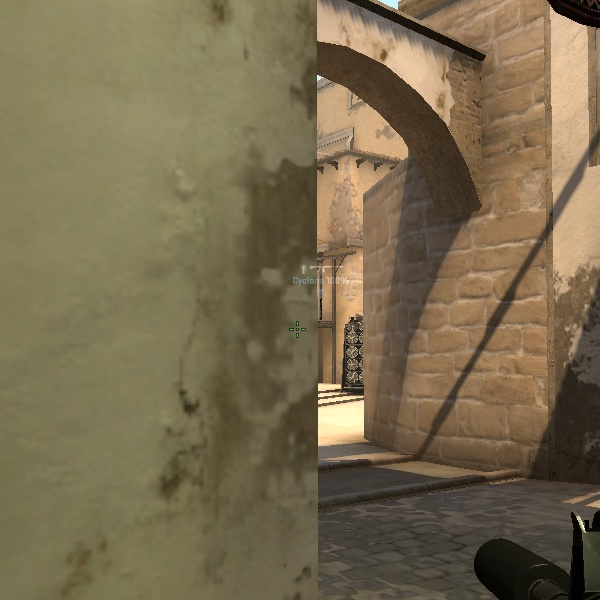ct_body: (338, 314, 370, 390)
t_body: (337, 312, 370, 391)
